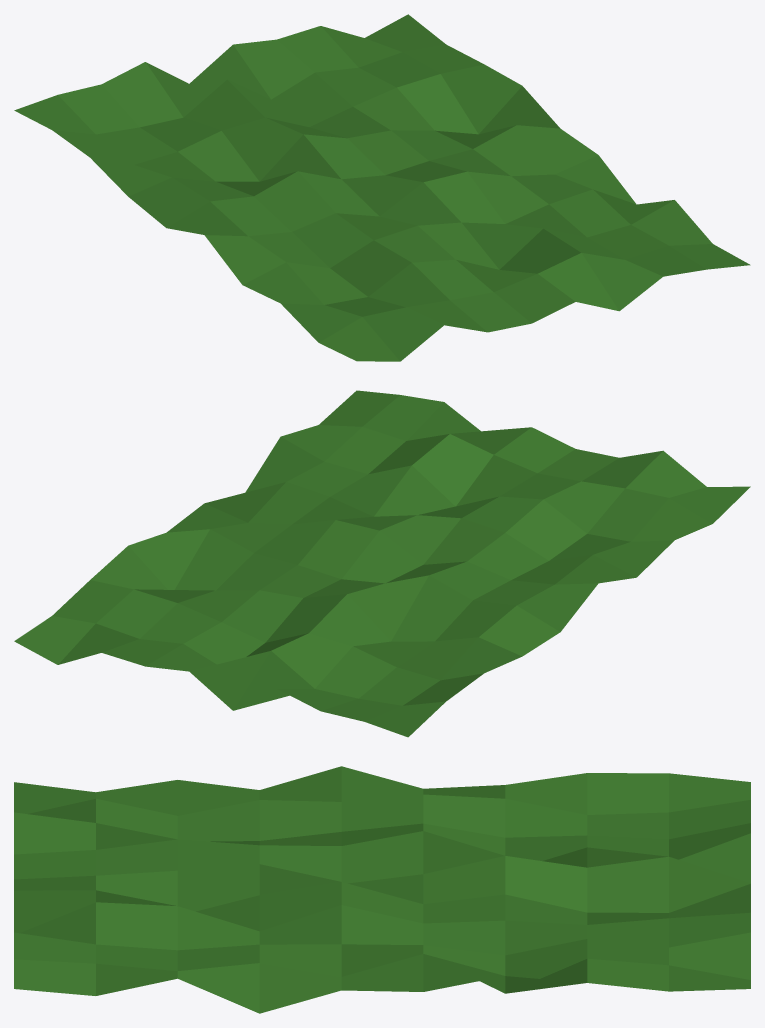
Rendered from Ground_One.fbx.
The picture shows the model from 3 angles, top to bottom: view 1: azimuth 30°, elevation 25°; view 2: azimuth 150°, elevation 25°; view 3: azimuth 270°, elevation 25°; orthographic projection. The views are drawn at different scales.
Visible parts, largest first — view 1: Plane; view 2: Plane; view 3: Plane.
Boxes of the visible parts, x1,y1,x2,y2 form: Plane: (14,14,750,361); Plane: (14,390,750,737); Plane: (14,766,750,1013).
Bounding box in the file's own units: 988 × 106 × 1488.
